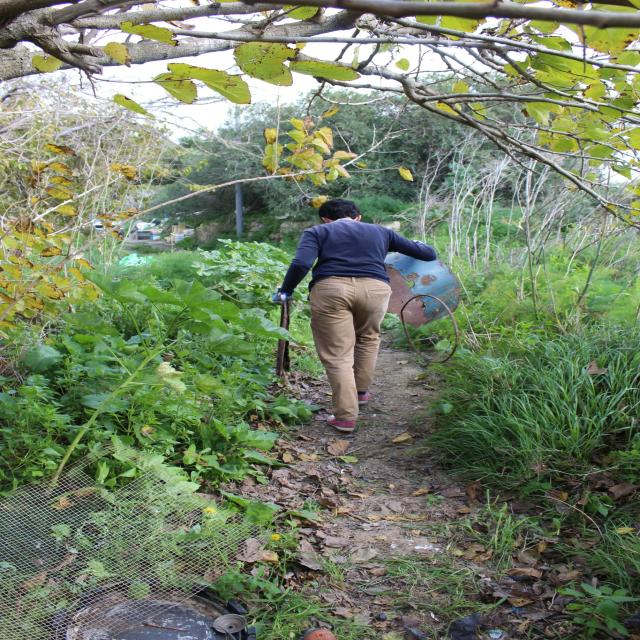Other litter: (0, 437, 275, 639), (50, 572, 258, 640), (383, 253, 462, 364), (282, 302, 291, 380), (299, 628, 338, 640), (129, 230, 160, 241), (136, 217, 160, 230), (95, 224, 104, 231)
Other plastic: (402, 610, 483, 640), (508, 574, 535, 583), (483, 627, 503, 639), (513, 603, 528, 617)
Plastic bag - wrapper: (116, 252, 158, 267)
